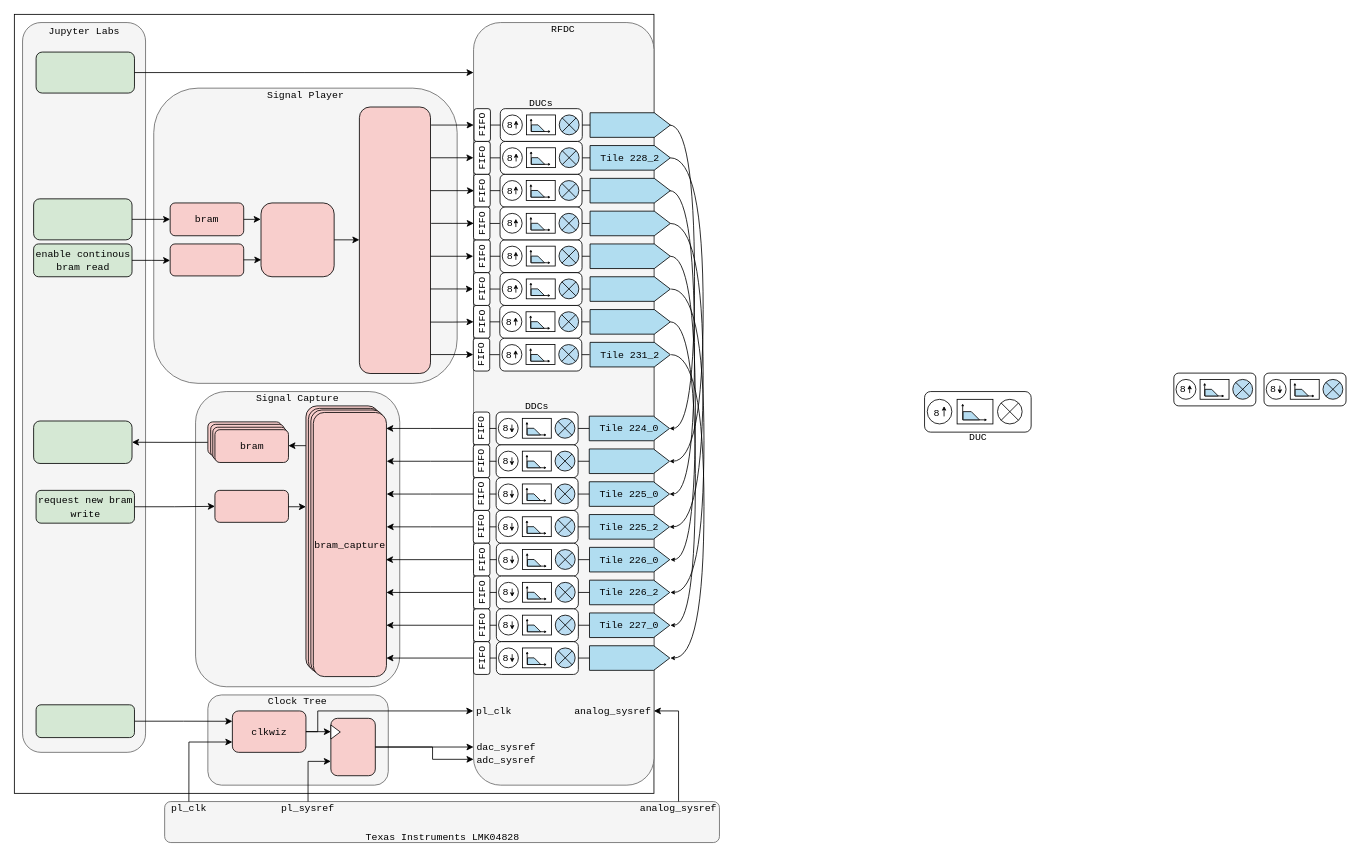
Some shapes in this 1360 by 857 pixel diagram are drawn without their labels. Each missing label, with the centre of its shape:
bram_player: the point at 297,239
broadcaster: the point at 394,240
FF: the point at 352,747
generate and load periodic signal: the point at 82,219
gpio_enable: the point at 206,259
gpio_trigger: the point at 251,506
read bram and plot: the point at 82,441
reset clkwiz: the point at 84,721
RFDC & MTS ctrl: the point at 84,72
Tile 224 _2: the point at 629,461
Tile 227 _2: the point at 629,657
Tile 228_0: the point at 629,124
Tile 229 _2: the point at 629,223
Tile 229_0: the point at 629,190
Tile 230 _2: the point at 629,288
Tile 230_0: the point at 629,256
Tile 231_0: the point at 629,321
